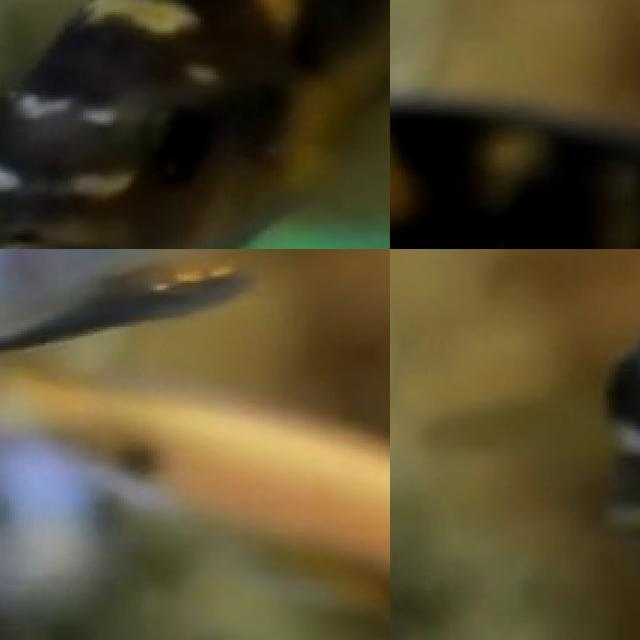fish: (0, 0, 390, 249), (0, 421, 166, 640), (570, 249, 640, 585)
